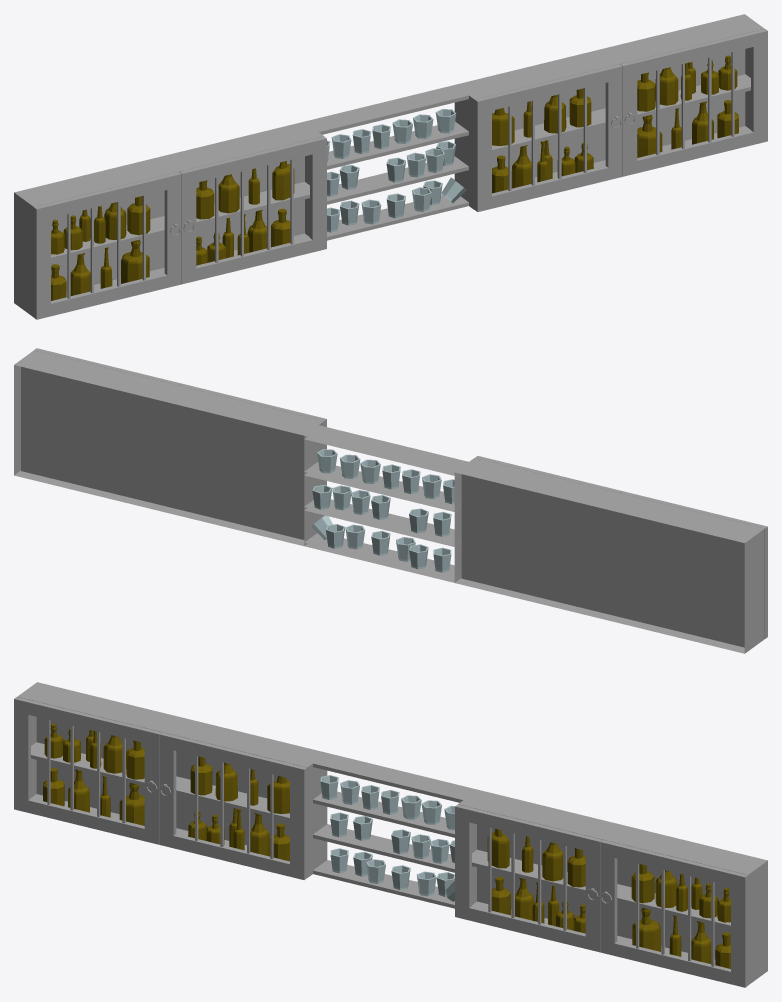
File: LiquorShelf_Full.fbx
3 renders of one model, top to bottom at view 1: azimuth 30°, elevation 25°; view 2: azimuth 150°, elevation 25°; view 3: azimuth 330°, elevation 25°, orthographic.
Visible parts, largest first — view 1: LiquorShelf, Bottles, ShotGlasses; view 2: LiquorShelf, ShotGlasses; view 3: LiquorShelf, Bottles, ShotGlasses.
Boxes of the visible parts, x1,y1,x2,y2 form: LiquorShelf: (14, 14, 767, 319); Bottles: (51, 55, 738, 300); ShotGlasses: (327, 109, 466, 232); LiquorShelf: (14, 348, 767, 653); ShotGlasses: (311, 449, 454, 572); LiquorShelf: (14, 682, 767, 987); Bottles: (43, 723, 730, 968); ShotGlasses: (320, 775, 455, 901).
Size of the model in its own units: 50.4 by 7.29 by 2.93.
